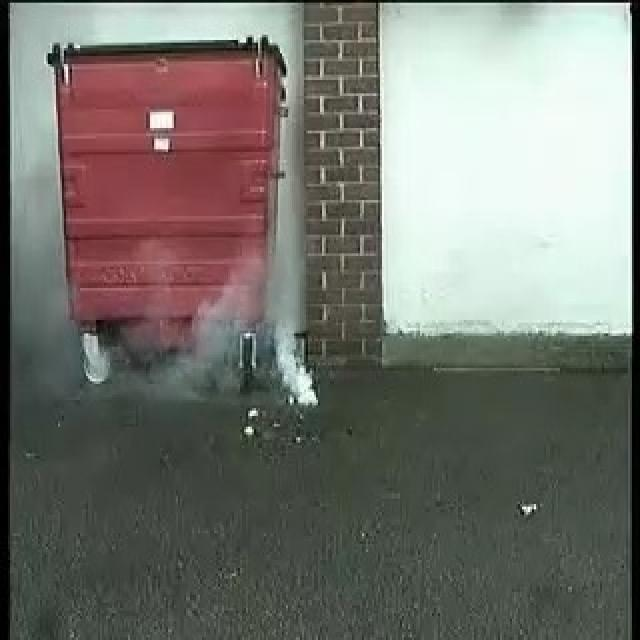smoke: (170, 270, 314, 401)
